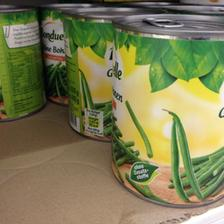Bohnen: (110, 14, 222, 198), (60, 4, 128, 144)
